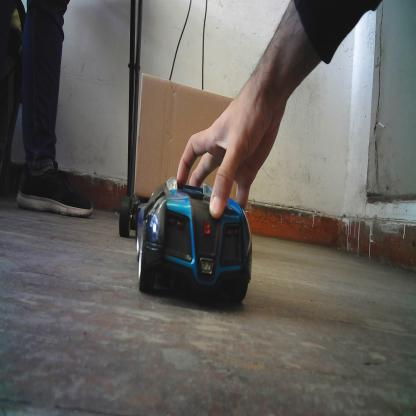LeadTruck: (122, 76, 241, 236)
